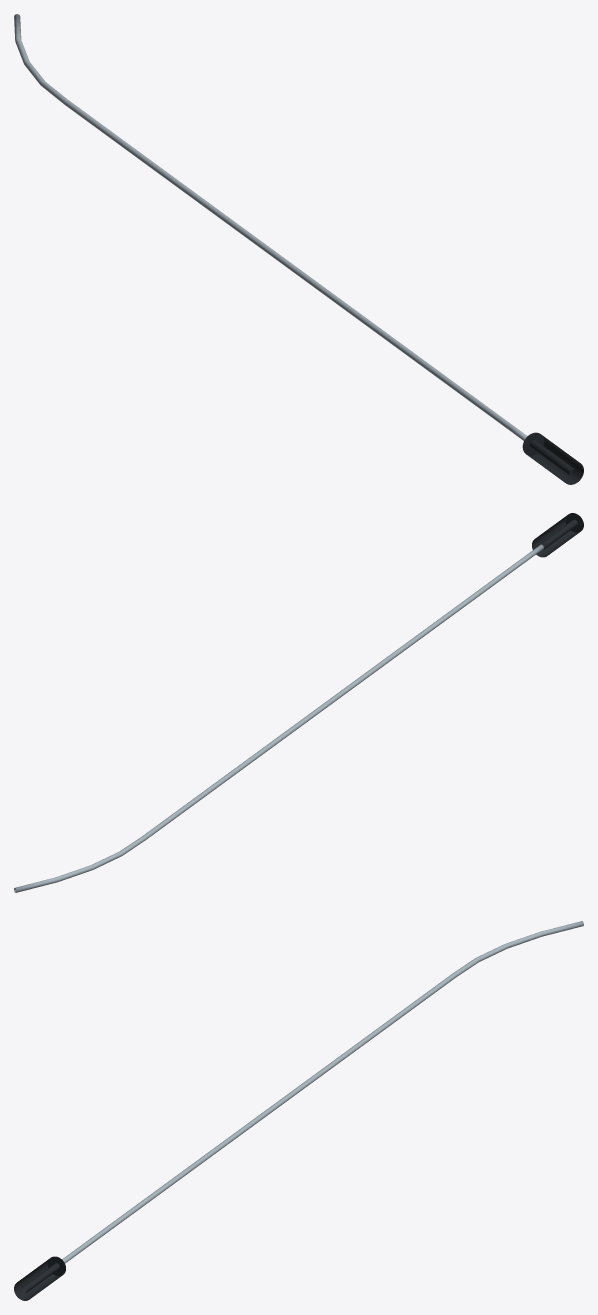
File: semi-rigid-suction-catheter-3mm.glb
The picture shows the model from 3 angles, top to bottom: view 1: azimuth 30°, elevation 25°; view 2: azimuth 150°, elevation 25°; view 3: azimuth 330°, elevation 25°; orthographic projection. The views are drawn at different scales.
Parts seen in each view (by area): view 1: Suction_Catheter_Patent_Lumen, Suction_Connector; view 2: Suction_Catheter_Patent_Lumen, Suction_Connector; view 3: Suction_Catheter_Patent_Lumen, Suction_Connector.
Boxes of the visible parts, x1,y1,x2,y2 form: Suction_Catheter_Patent_Lumen: (14, 14, 527, 440); Suction_Connector: (522, 432, 583, 484); Suction_Catheter_Patent_Lumen: (14, 544, 543, 892); Suction_Connector: (532, 513, 583, 557); Suction_Catheter_Patent_Lumen: (62, 921, 583, 1263); Suction_Connector: (14, 1256, 65, 1300).
Size of the model in its own units: 0.0353 by 0.012 by 0.5827.
